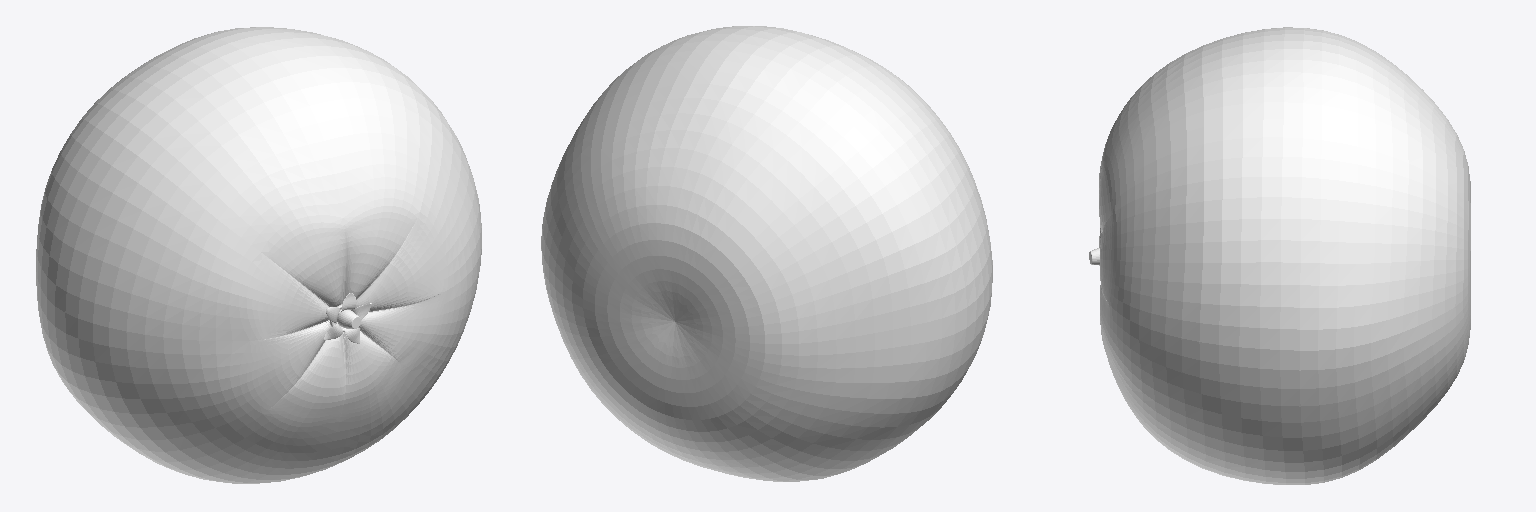
The model's file is orange.obj.
3 renders of one model, left to right at view 1: azimuth 30°, elevation 25°; view 2: azimuth 150°, elevation 25°; view 3: azimuth 270°, elevation 25°, orthographic.
Visible parts, largest first — view 1: 12204_Fruit_v1_L3; view 2: 12204_Fruit_v1_L3; view 3: 12204_Fruit_v1_L3.
Boxes of the visible parts, <box> form: 12204_Fruit_v1_L3: <box>36,27,481,483</box>; 12204_Fruit_v1_L3: <box>541,26,992,481</box>; 12204_Fruit_v1_L3: <box>1089,27,1470,484</box>.
Bounding box in the file's own units: 0.4761 × 0.4766 × 0.3933.